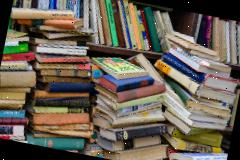paper: (88, 52, 150, 85), (10, 0, 75, 30)
